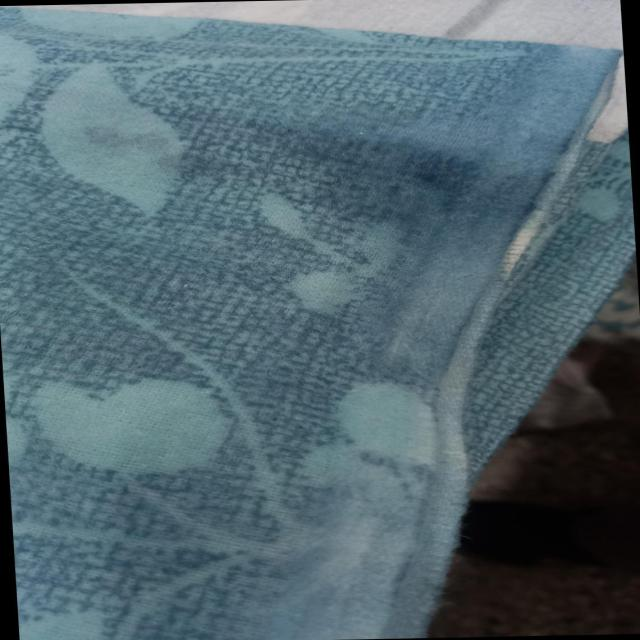baekra: (67, 108, 575, 640)
